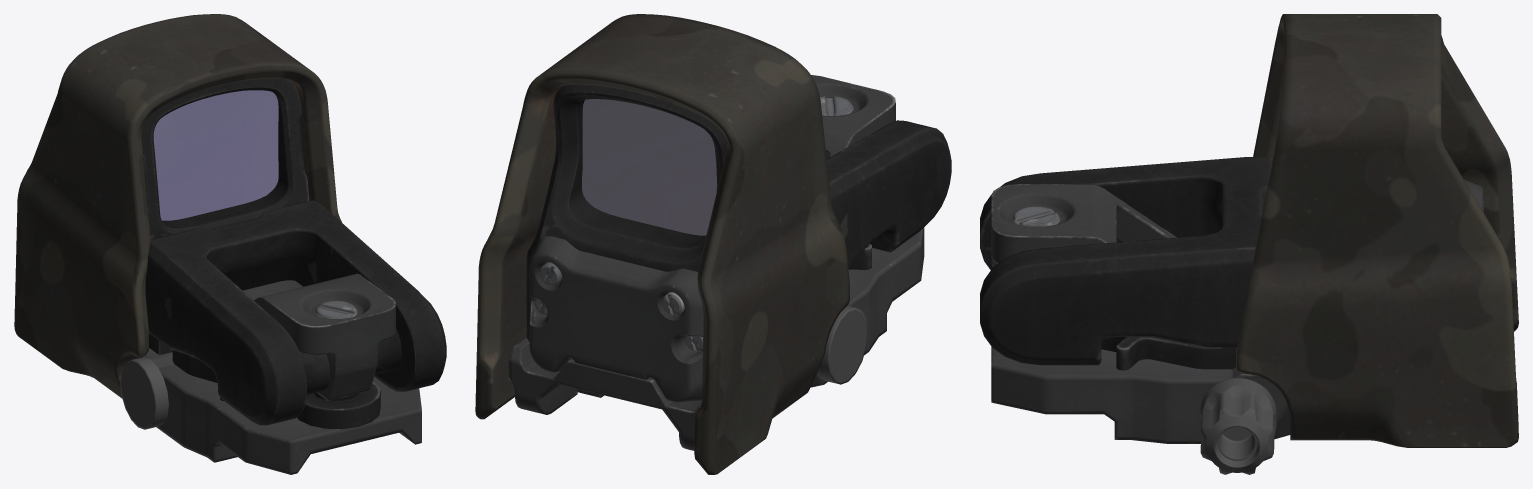
File: holographic.glb
3 renders of one model, left to right at view 1: azimuth 30°, elevation 25°; view 2: azimuth 150°, elevation 25°; view 3: azimuth 270°, elevation 25°, orthographic. The views are drawn at different scales.
Parts seen in each view (by area): view 1: Housing, Lens; view 2: Housing, Lens; view 3: Housing.
Part boxes in pixels (x1,y1,x2,y2): Housing: (14,14,446,474); Lens: (66,77,278,220); Housing: (475,14,951,474); Lens: (582,99,765,235); Housing: (980,14,1518,474).
Bounding box in the file's own units: 0.0687 × 0.0756 × 0.105.
1 material, 1 textured.
